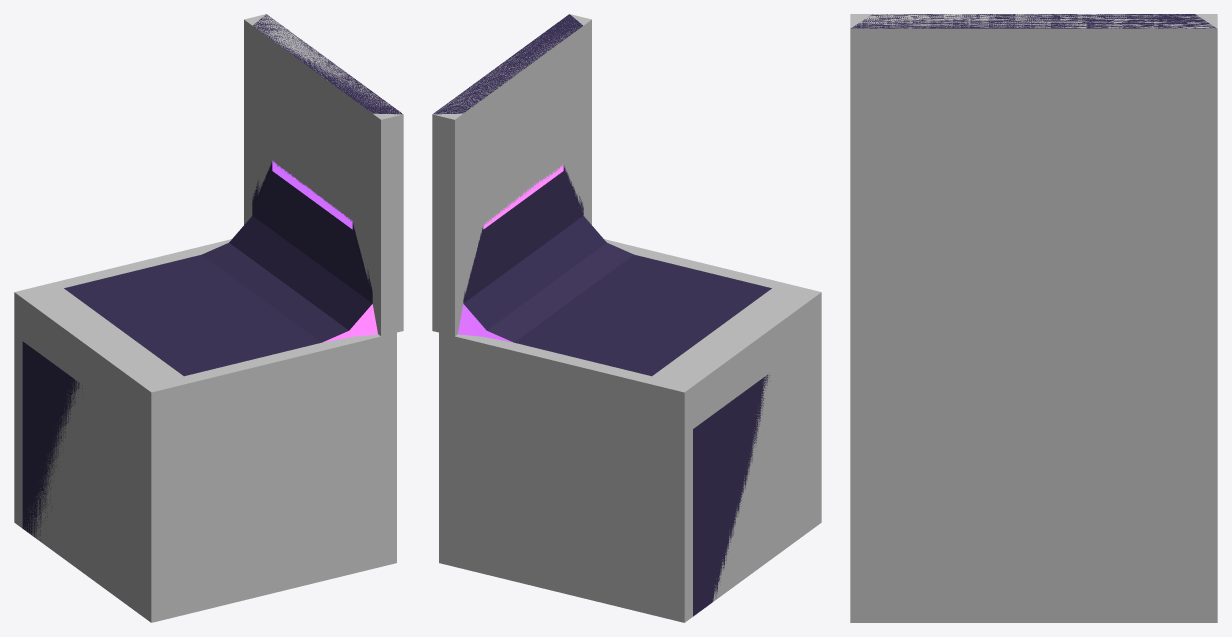
Rendered from SM_Chairs_05.fbx.
The picture shows the model from 3 angles, left to right: view 1: azimuth 30°, elevation 25°; view 2: azimuth 150°, elevation 25°; view 3: azimuth 270°, elevation 25°; orthographic projection. The views are drawn at different scales.
Parts seen in each view (by area): view 1: SM_Chairs_05_ConvexHulls, SM_Chairs_05; view 2: SM_Chairs_05_ConvexHulls, SM_Chairs_05; view 3: SM_Chairs_05_ConvexHulls, SM_Chairs_05.
Part boxes in pixels (x1,y1,x2,y2): SM_Chairs_05_ConvexHulls: (14,14,403,622); SM_Chairs_05: (22,14,402,540); SM_Chairs_05_ConvexHulls: (432,14,821,622); SM_Chairs_05: (433,14,771,616); SM_Chairs_05_ConvexHulls: (850,14,1217,622); SM_Chairs_05: (851,14,1216,28).
Bounding box in the file's own units: 78.99 × 74.38 × 134.
Materials: 2 (1 with a texture image).
